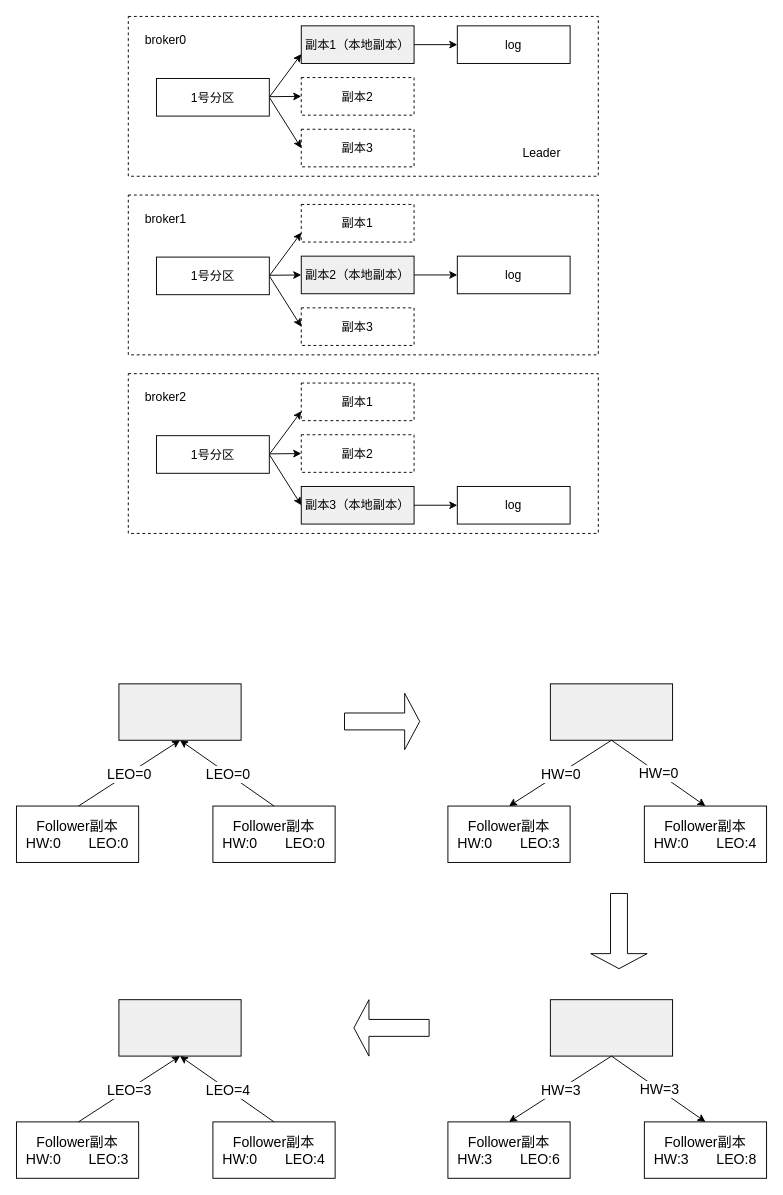
The diagram is 783 pixels wide and 1195 high, and some of its shapes have lost their labels. The shapes that lost their labels are listed below. From the top down, each one's centre as x and y in pixels, then its label:
At point 179,711: "Leader副本 HW:0 LEO:5".
At point 611,711: "Leader副本 HW:0 LEO:10".
At point 179,1027: "Leader副本 HW:3 LEO:15".
At point 611,1027: "Leader副本 HW:3 LEO:20".
